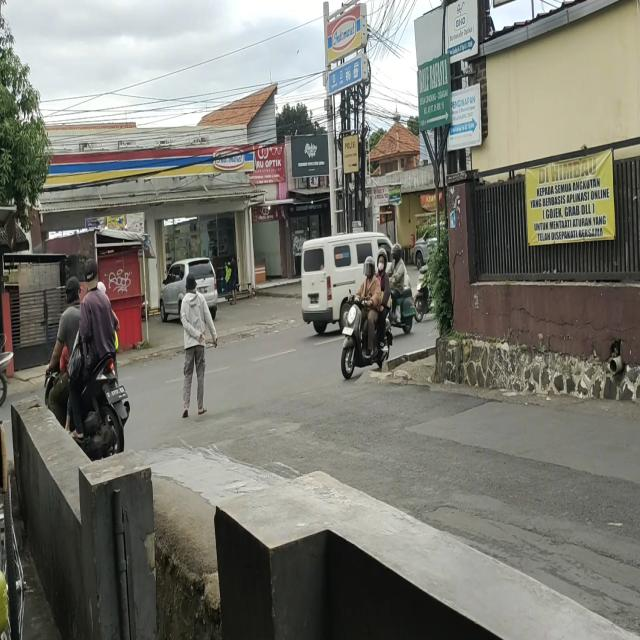helmet: (365, 256, 375, 278), (377, 250, 386, 271), (393, 245, 401, 261)
no-helmet: (84, 258, 99, 290), (66, 275, 82, 304)
